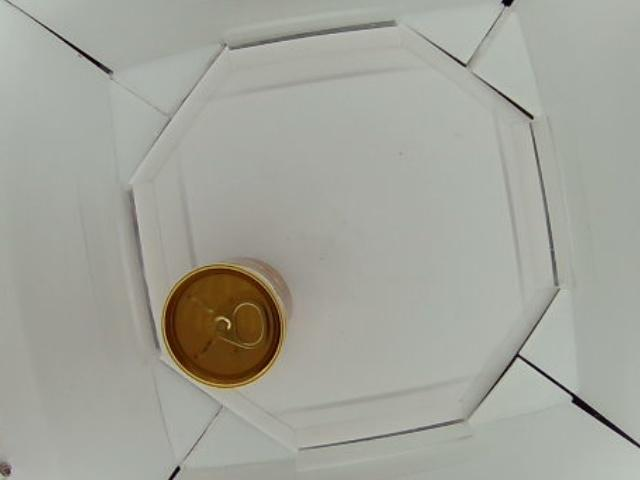Bottle: (163, 259, 291, 389)
